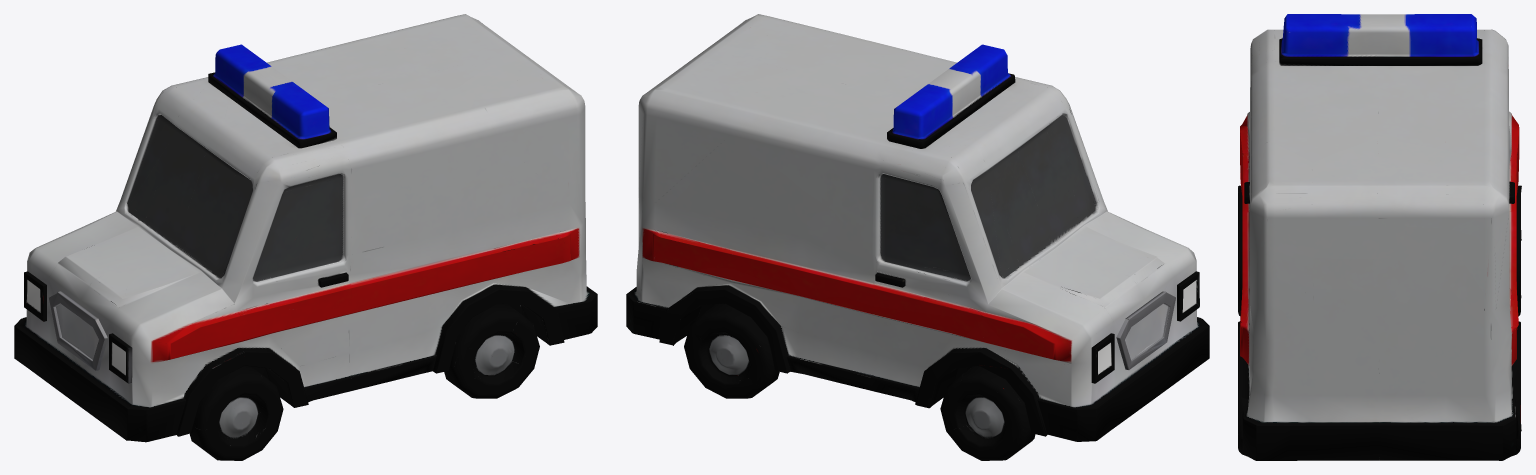
File: 51-ambulance.glb
3 views of the same model, side by side, from view 1: azimuth 30°, elevation 25°; view 2: azimuth 150°, elevation 25°; view 3: azimuth 270°, elevation 25° (orthographic). The views are drawn at different scales.
Visible parts, largest first — view 1: geometry_0; view 2: geometry_0; view 3: geometry_0.
Boxes of the visible parts, <box> form: geometry_0: <box>14,14,597,460</box>; geometry_0: <box>626,14,1209,460</box>; geometry_0: <box>1238,14,1521,460</box>.
Size of the model in its own units: 0.9502 by 0.6099 by 0.4541.
1 material, 1 textured.
